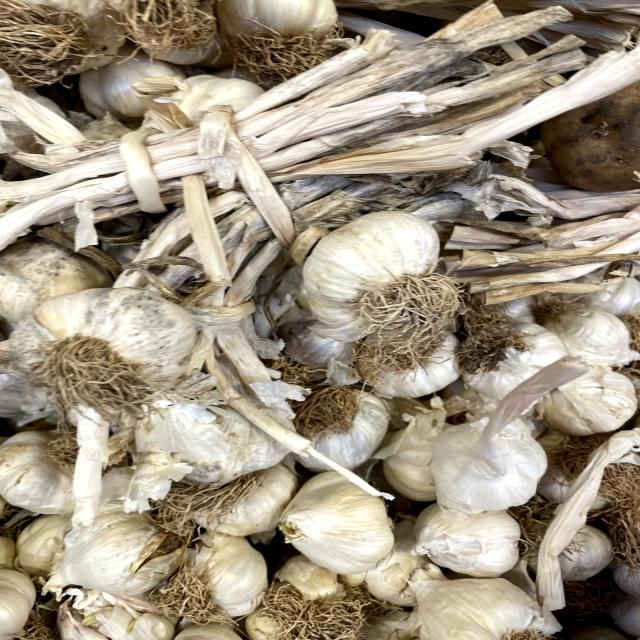garlic: (281, 200, 467, 354), (263, 463, 413, 577)
